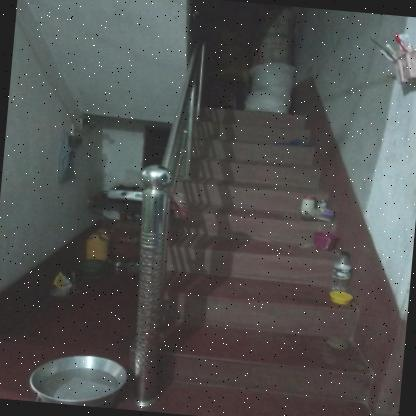stair: (154, 78, 398, 406)
